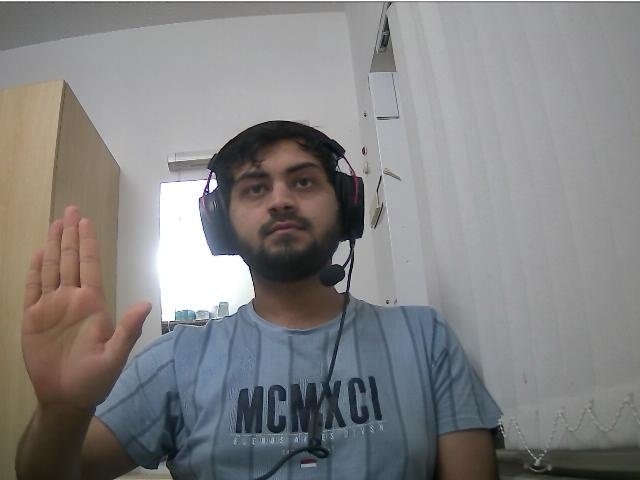up: (20, 205, 108, 407)
